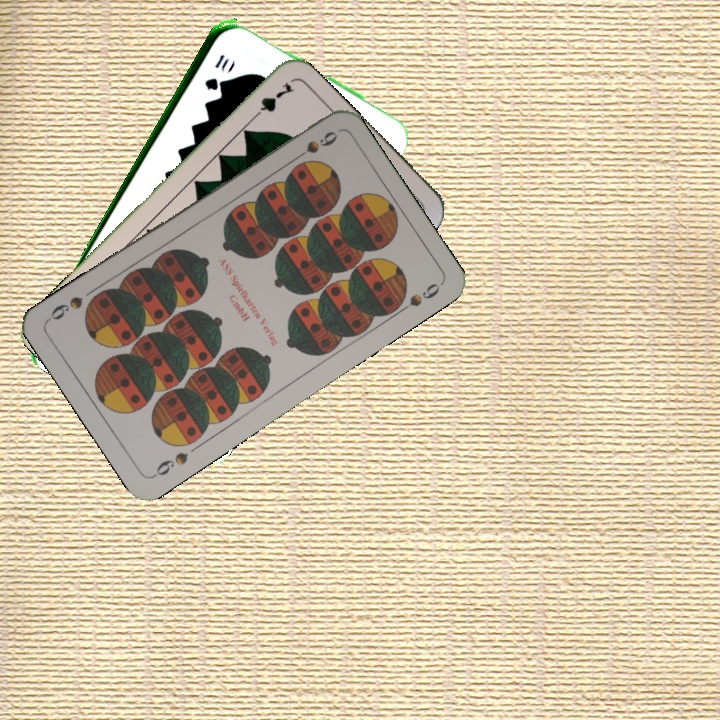G10: (200, 50, 231, 93)
G7: (246, 78, 296, 124)
S9: (287, 127, 341, 165), (148, 447, 191, 480)
